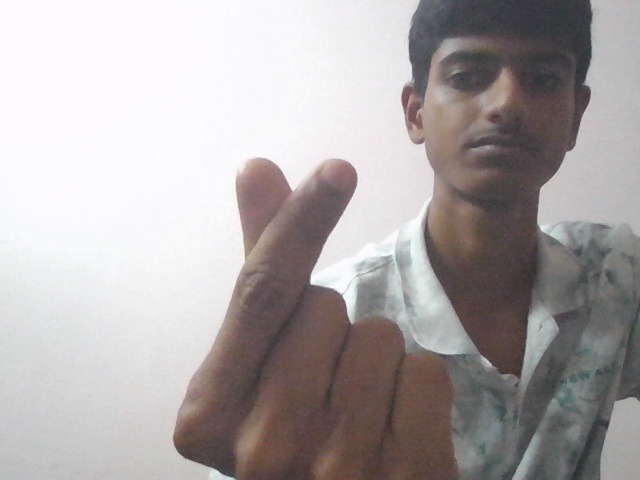iloveyou: (157, 138, 461, 480)
